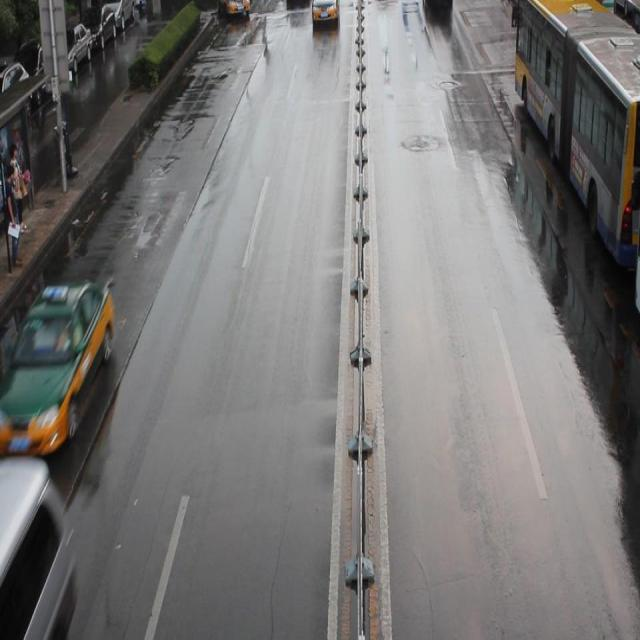car: (0, 281, 114, 461), (311, 1, 338, 24), (220, 1, 250, 18)
truck: (1, 461, 80, 640)
van: (514, 1, 640, 269), (632, 241, 638, 316)
